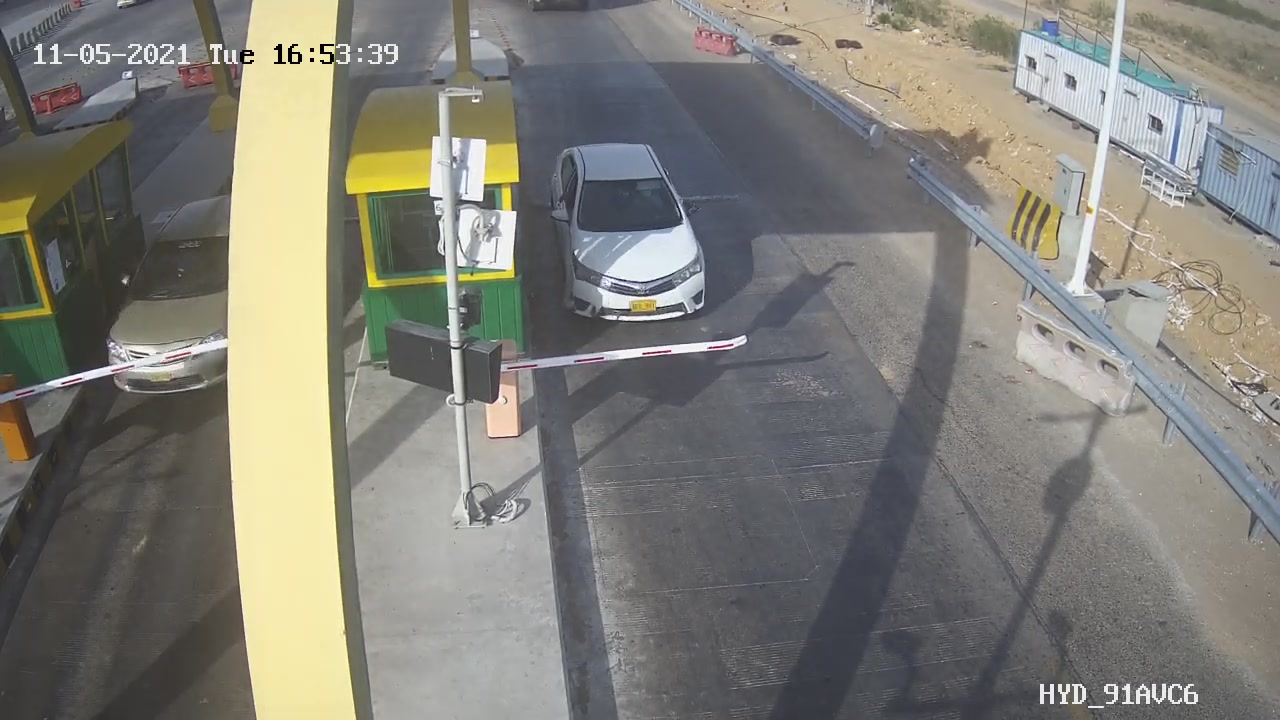F1: (533, 129, 724, 342)
